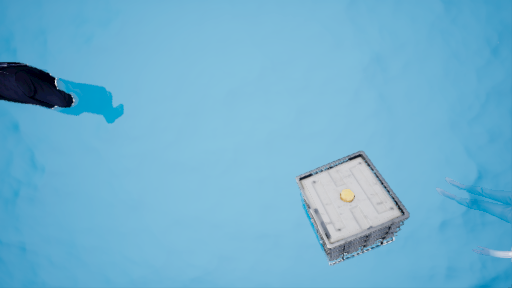person: (2, 58, 134, 133)
